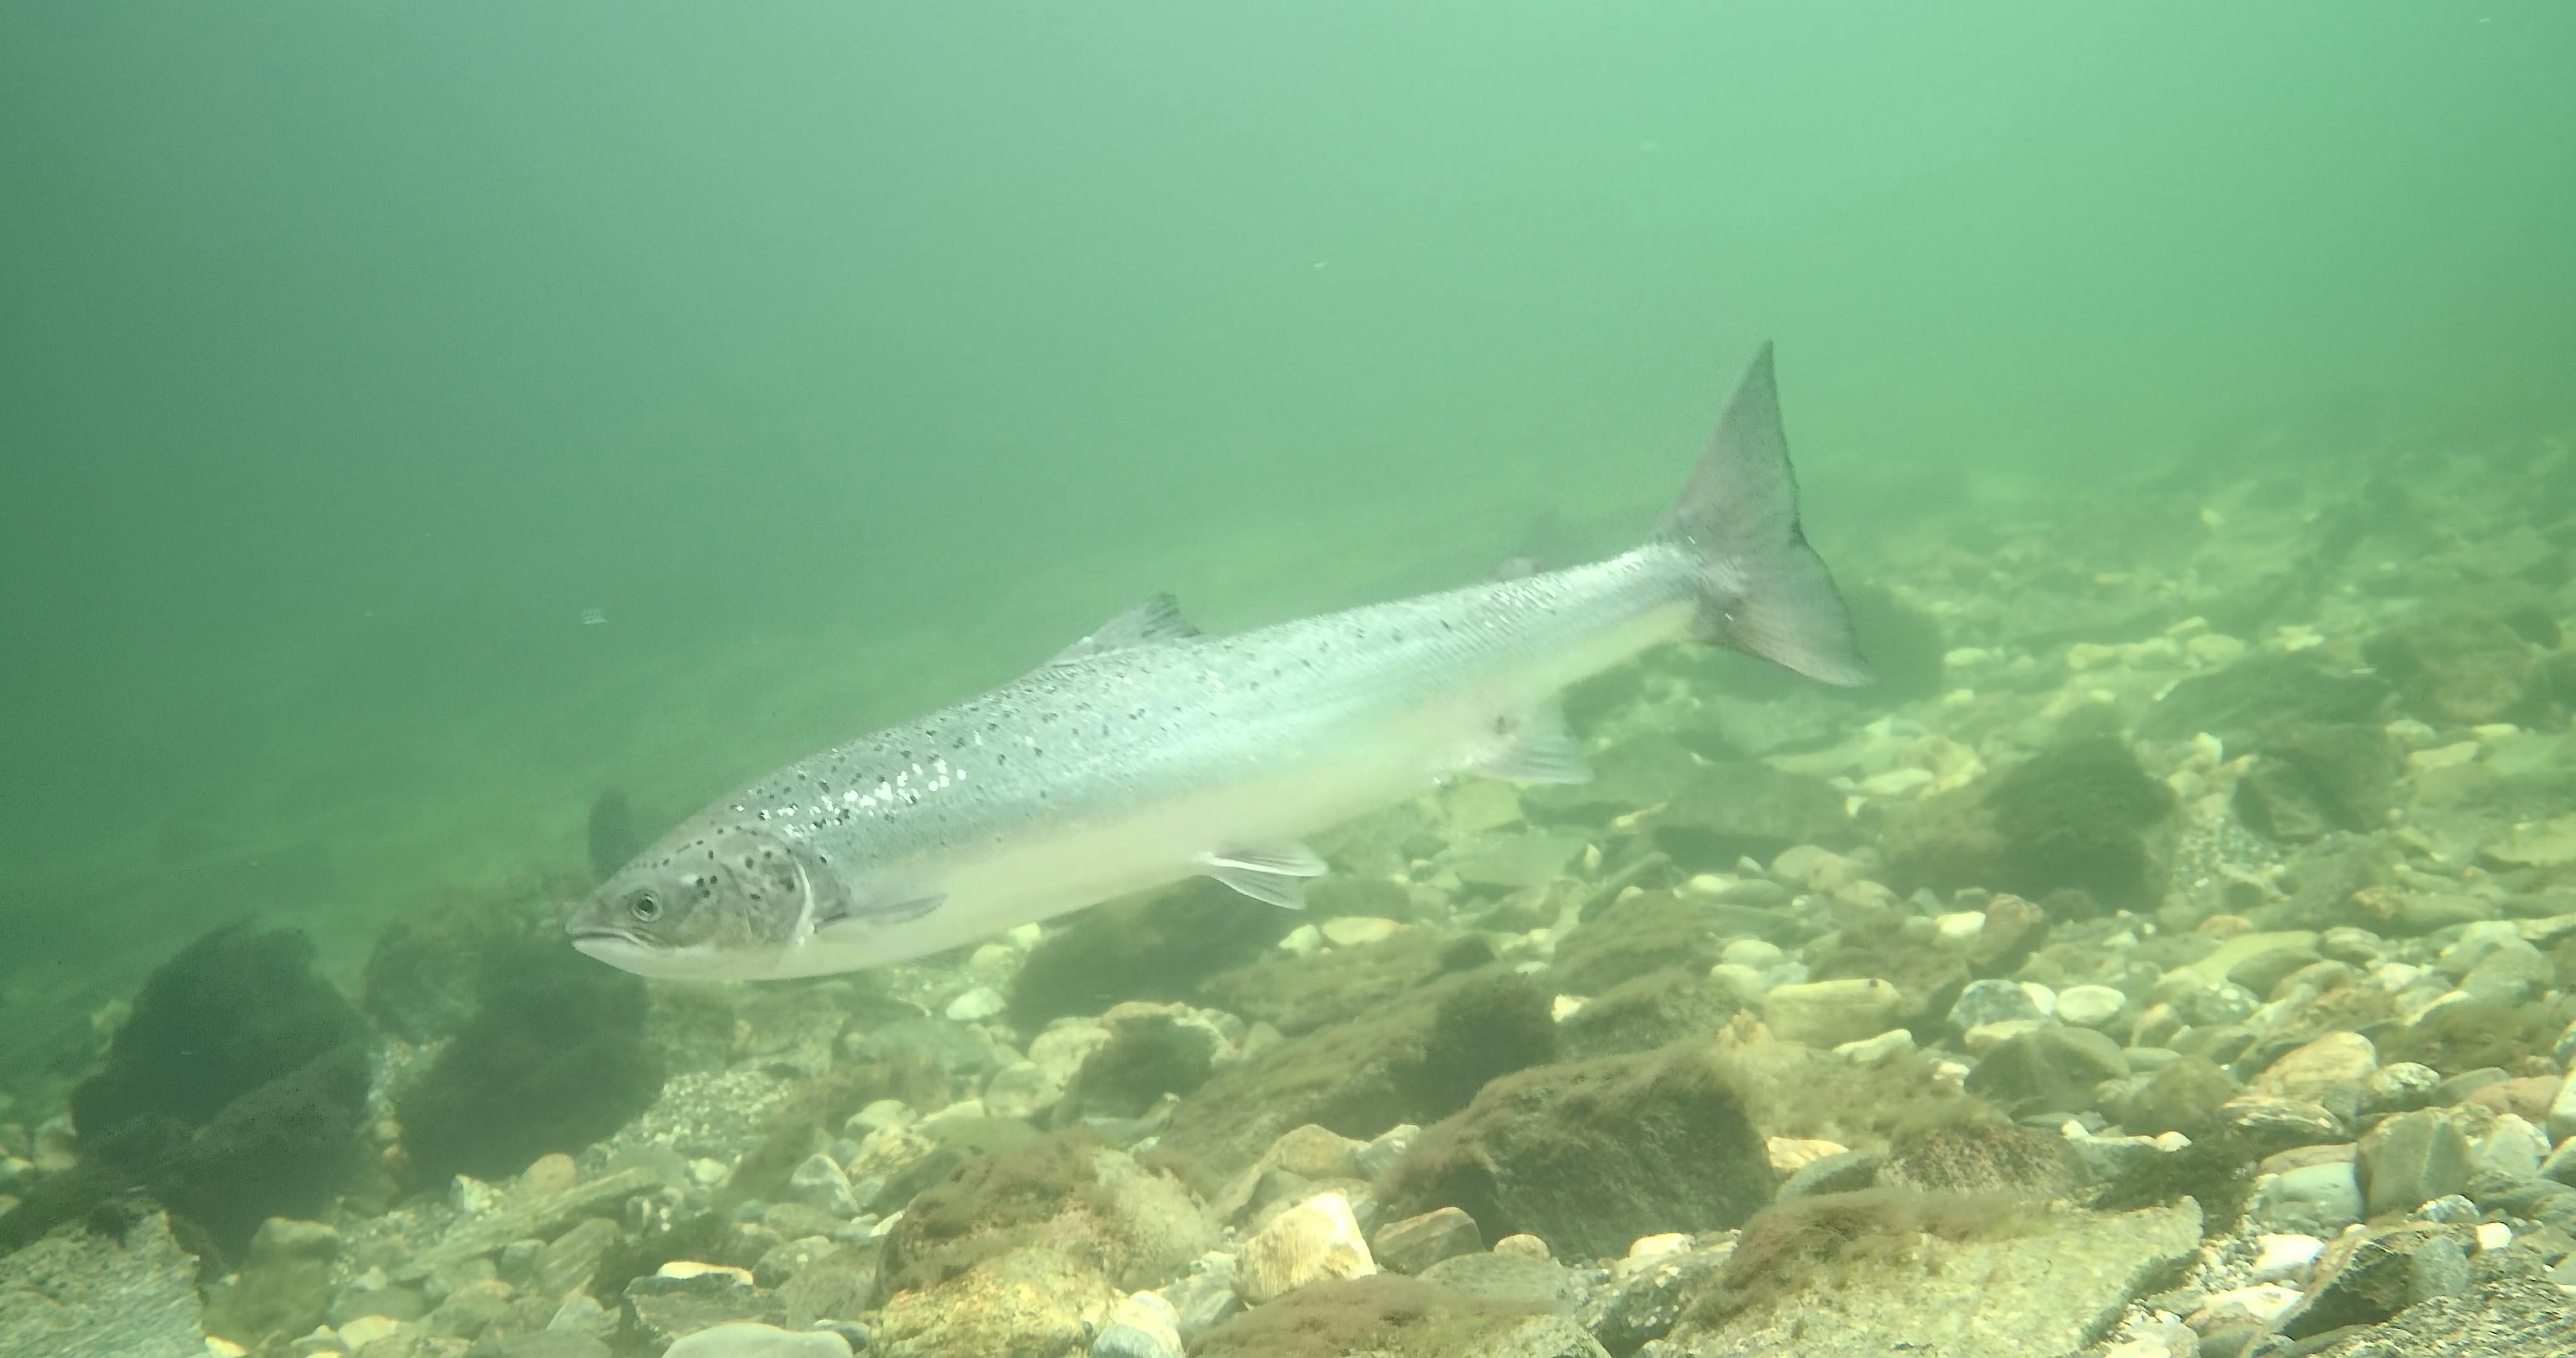salmon: (557, 331, 1881, 990)
